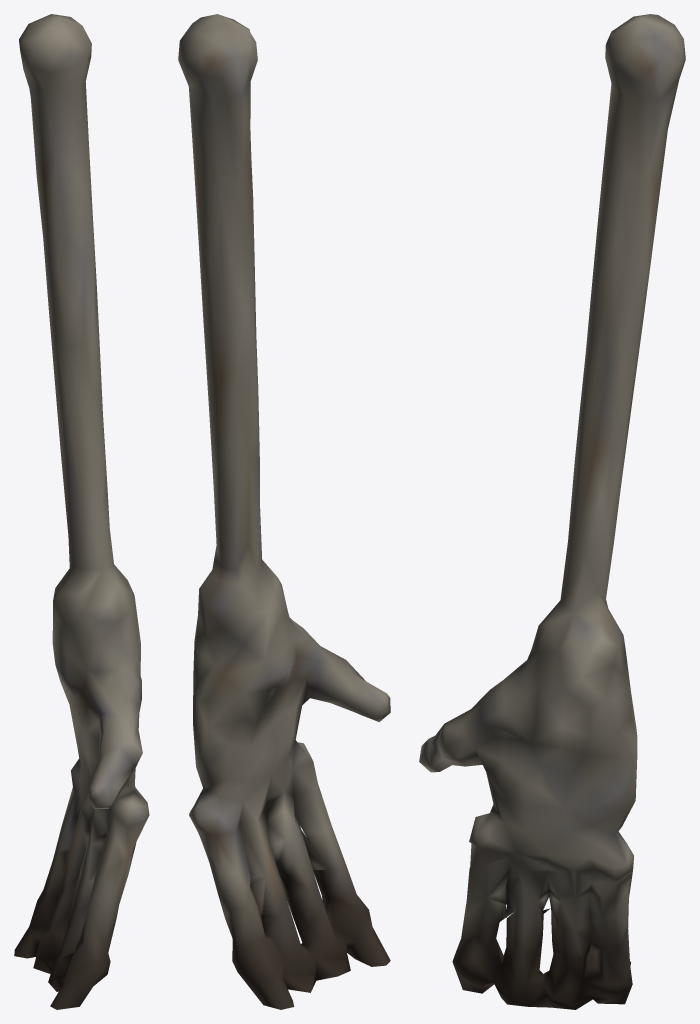
Rendered from widow_arm.glb.
The picture shows the model from 3 angles, left to right: view 1: azimuth 30°, elevation 25°; view 2: azimuth 150°, elevation 25°; view 3: azimuth 270°, elevation 25°; orthographic projection. The views are drawn at different scales.
Parts seen in each view (by area): view 1: widow_arm; view 2: widow_arm; view 3: widow_arm.
Boxes of the visible parts, x1=… form: widow_arm: x1=14, y1=14, x2=149, y2=1009; widow_arm: x1=178, y1=14, x2=390, y2=1009; widow_arm: x1=419, y1=14, x2=685, y2=1009.
Bounding box in the file's own units: 0.1347 × 0.9348 × 0.2248.
